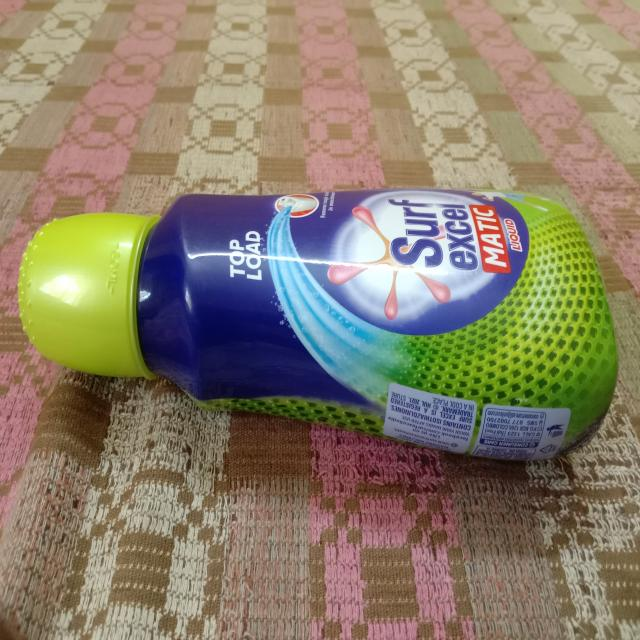detergent: (17, 189, 617, 480)
